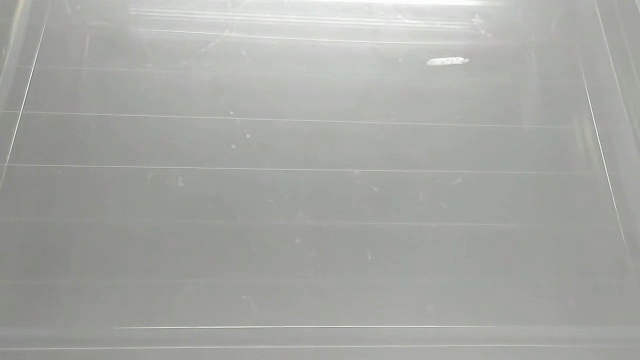alpha: (424, 55, 473, 69)
